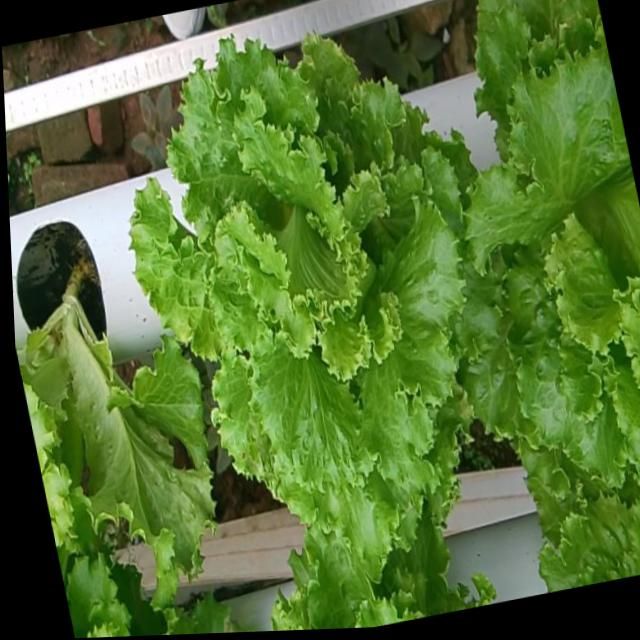Mature: (135, 22, 478, 545), (463, 28, 640, 476)
